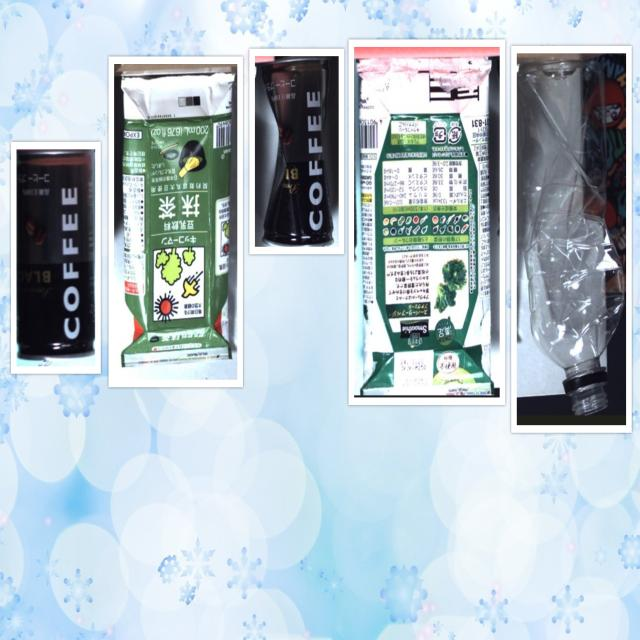Aluminium Foil: (354, 47, 494, 398), (121, 72, 235, 367)
Can: (17, 150, 97, 359), (255, 58, 338, 247)
Transparent Plastic Bottle: (518, 50, 624, 417)
